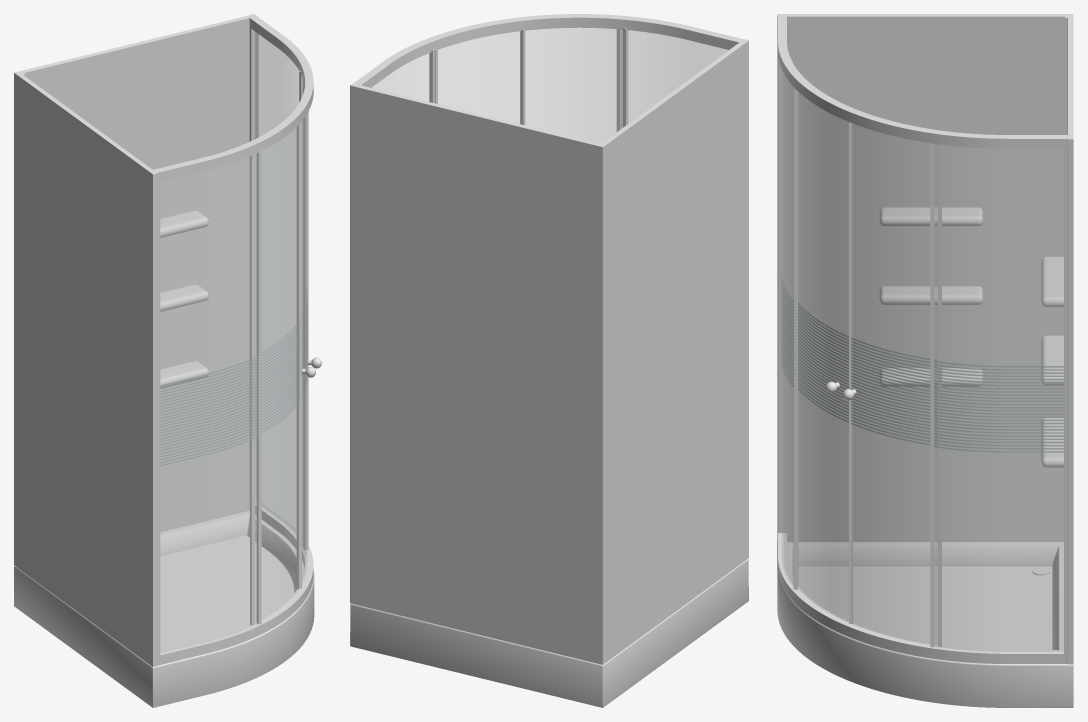
The picture shows the model from 3 angles, left to right: view 1: azimuth 30°, elevation 25°; view 2: azimuth 150°, elevation 25°; view 3: azimuth 270°, elevation 25°; orthographic projection. The views are drawn at different scales.
Parts seen in each view (by area): view 1: Cabin left back wall, Cabin rear wall, Left fixed glass, Acrylic tray, Left slider, Right fixed glass, Textured privacy band, Curved guide track.001, Curved guide track, Vertical glazing stile.001, Vertical glazing stile.003, Vertical glazing stile.006 (+9 smaller); view 2: Cabin rear wall, Cabin left back wall, Acrylic tray, Left slider, Right slider, Curved guide track.001, Left fixed glass, Right fixed glass, Vertical glazing stile.002; view 3: Cabin left back wall, Right fixed glass, Right slider, Acrylic tray, Left slider, Textured privacy band.003, Left fixed glass, Curved guide track.001, Textured privacy band.002, Curved guide track, Cabin rear wall, Wall channel (+15 smaller).
Part boxes in pixels (x1,y1,x2,y2): Cabin left back wall: (14,71,157,666); Cabin rear wall: (14,14,256,531); Left fixed glass: (160,153,257,653); Acrylic tray: (14,511,314,707); Left slider: (255,125,299,622); Right fixed glass: (254,32,298,534); Textured privacy band: (160,355,258,466); Curved guide track.001: (153,16,313,182); Curved guide track: (157,501,313,665); Vertical glazing stile.001: (256,151,261,624); Vertical glazing stile.003: (296,121,301,589); Vertical glazing stile.006: (303,80,308,549); Cabin rear wall: (350,83,605,664); Cabin left back wall: (598,39,748,664); Acrylic tray: (350,559,748,707); Left slider: (525,28,622,142); Right slider: (435,31,520,123); Curved guide track.001: (353,14,743,87); Left fixed glass: (622,30,728,127); Right fixed glass: (372,53,428,101); Vertical glazing stile.002: (622,27,628,127); Cabin left back wall: (777,14,1072,541); Right fixed glass: (934,144,1063,651); Right slider: (852,123,937,645); Acrylic tray: (777,541,1073,707); Left slider: (798,92,848,622); Textured privacy band.003: (934,361,1063,452); Left fixed glass: (782,71,793,586); Curved guide track.001: (778,16,1068,148); Textured privacy band.002: (851,337,937,445); Curved guide track: (778,533,1067,663); Cabin rear wall: (1067,14,1073,664); Wall channel: (778,14,786,532).
Size of the model in its own units: 0.92 by 1.95 by 0.92.
7 materials, 4 textured.
